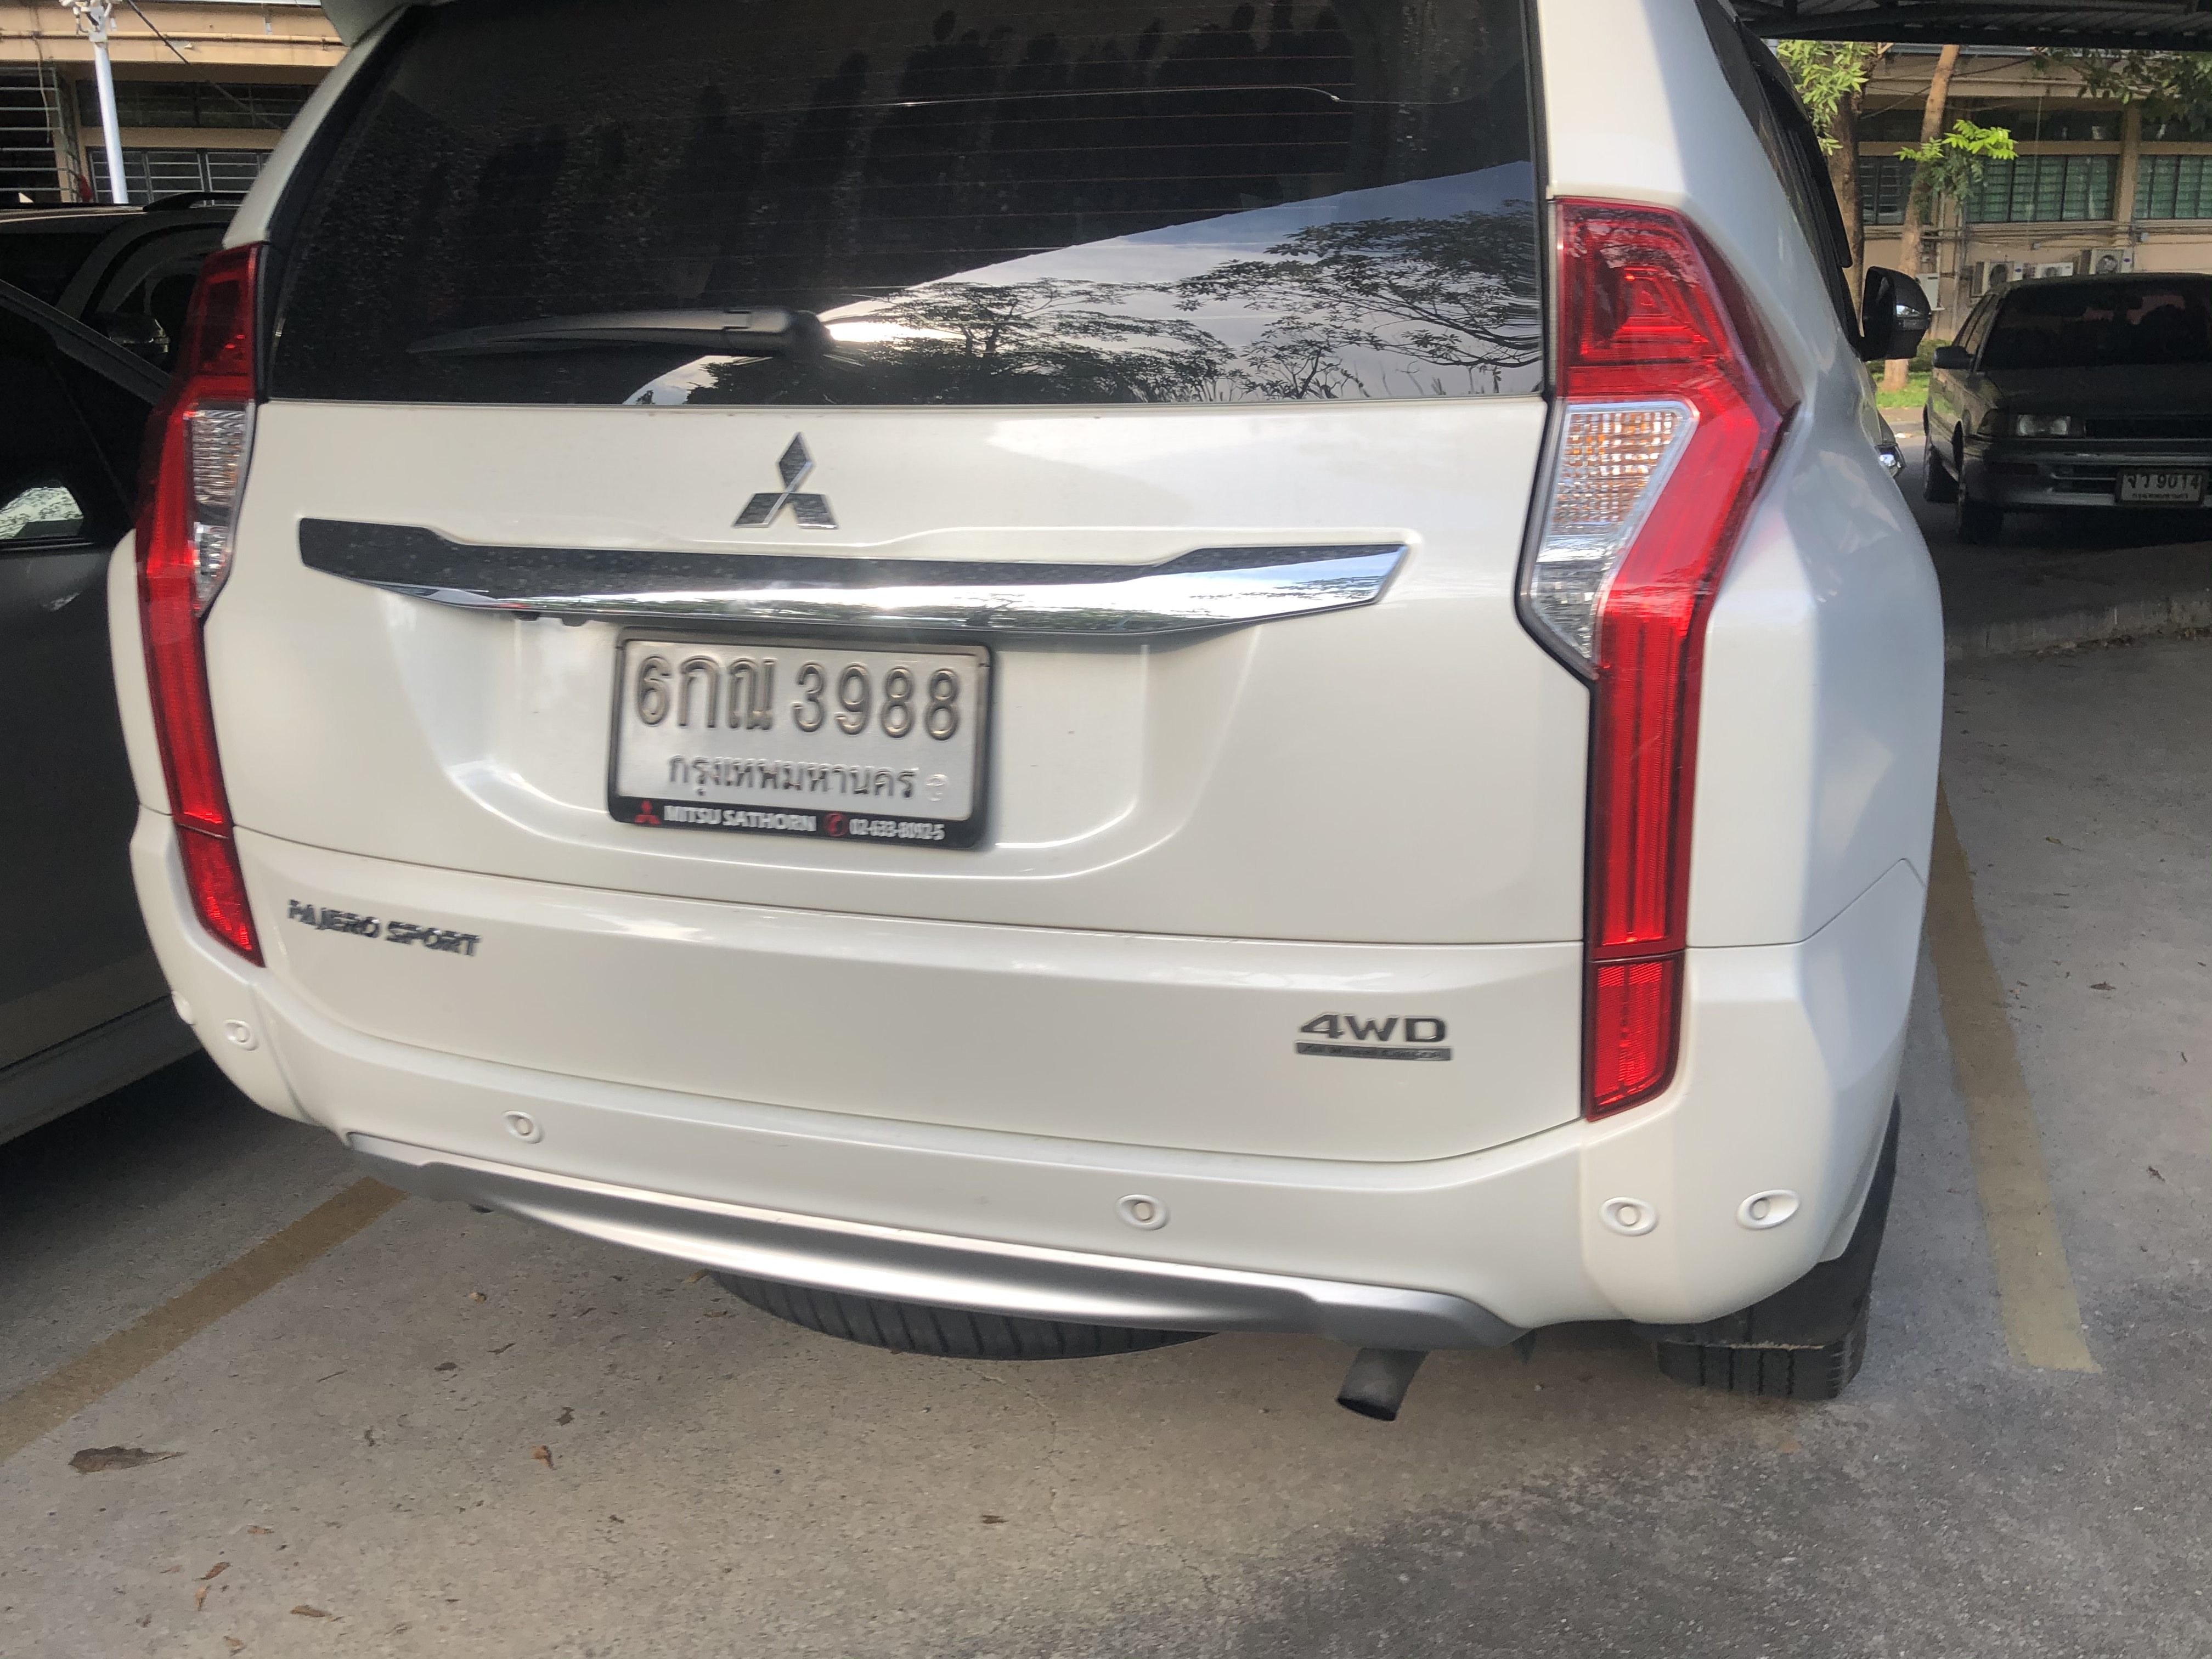in: (624, 640, 979, 823)
out: (608, 626, 998, 843)
